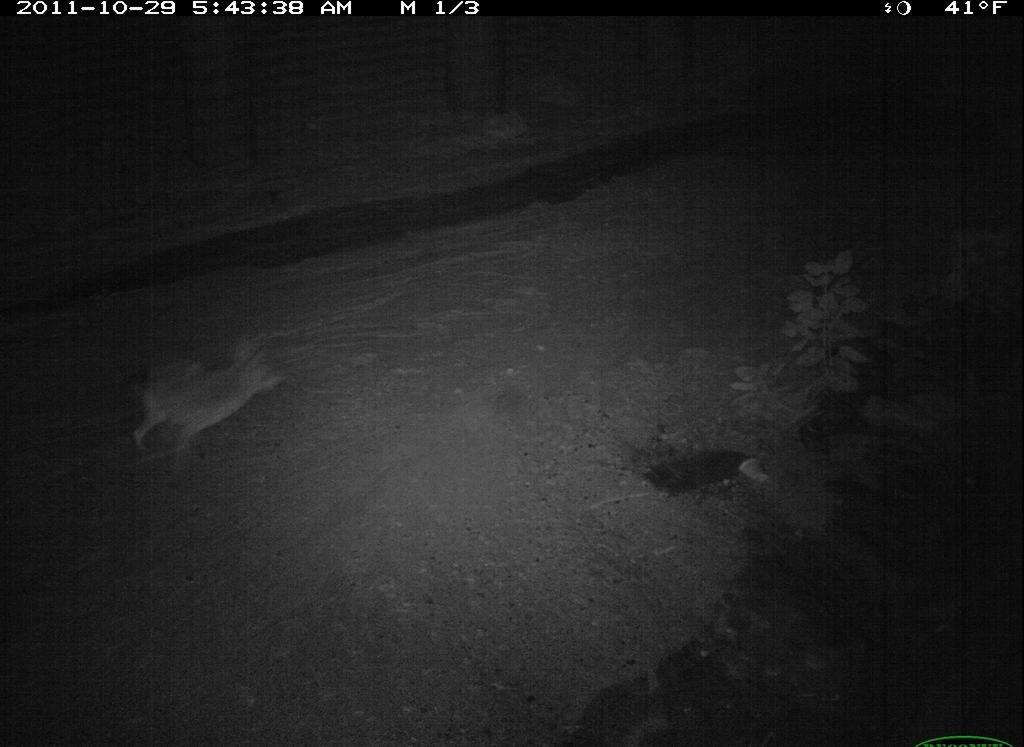coyote: (122, 337, 282, 459)
